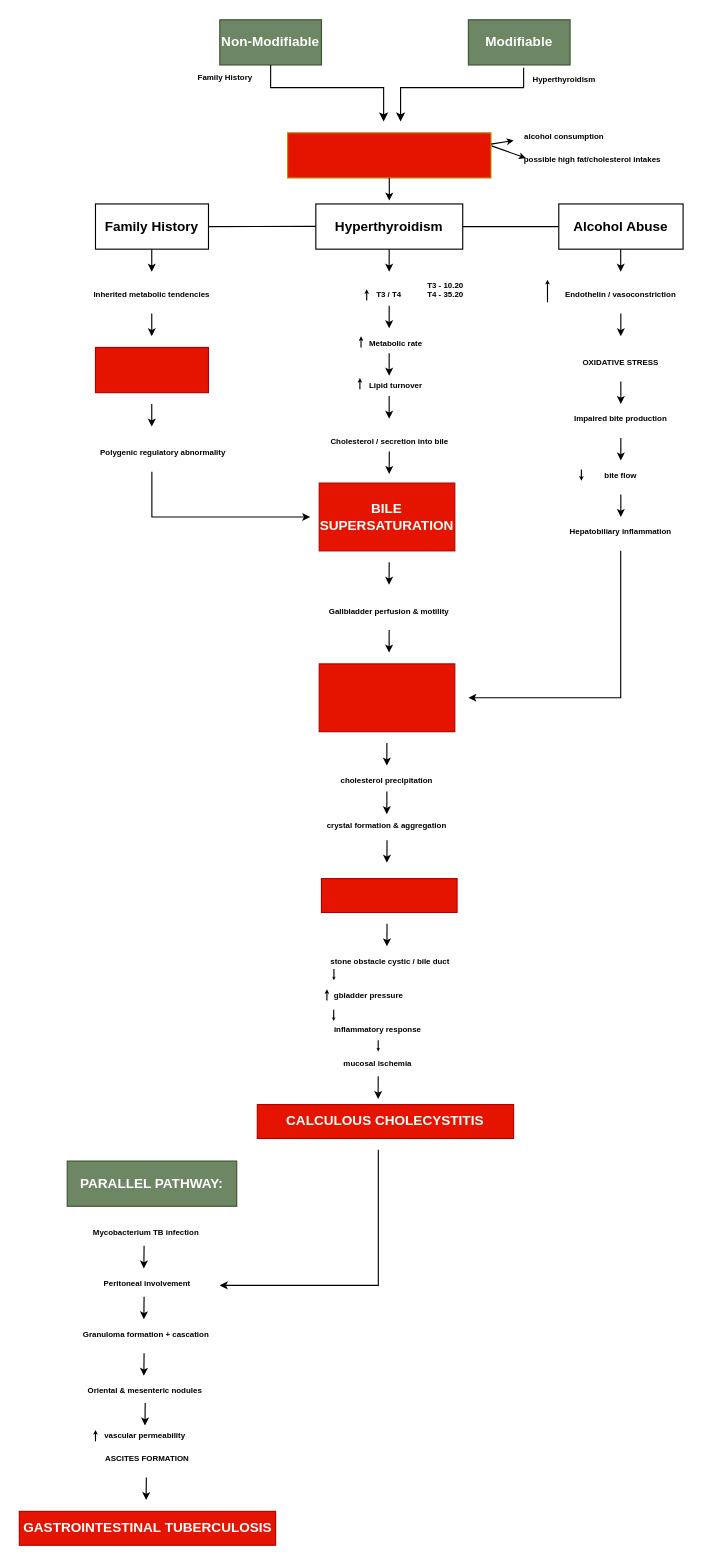
Image size: 704x1565. Some labels were removed from this diagram. Here are the shapes that lost their labels. From the top down, the box of each, then its label:
(286, 132, 491, 178): Lifestyle with vices & poor diet
(94, 346, 208, 393): Genetic Predisposition
(318, 663, 455, 732): BILE STASIS
(320, 877, 457, 912): CHOLELITHIASIS
